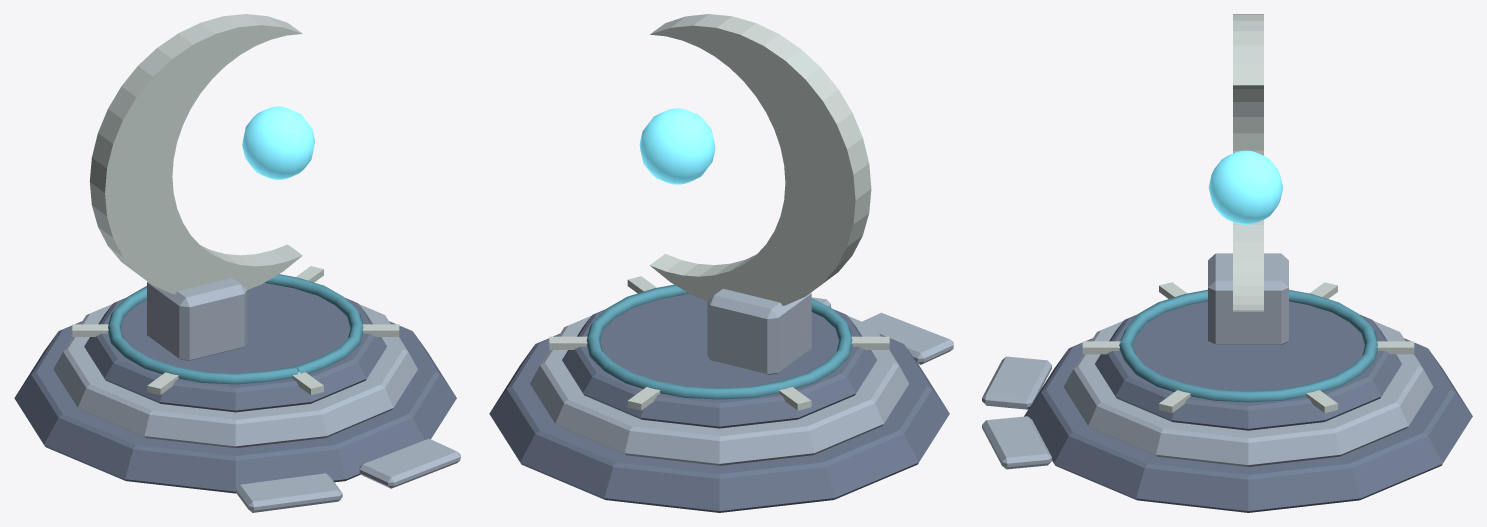
Rendered from moon_altar.glb.
The picture shows the model from 3 angles, left to right: view 1: azimuth 30°, elevation 25°; view 2: azimuth 150°, elevation 25°; view 3: azimuth 270°, elevation 25°; orthographic projection. The views are drawn at different scales.
Visible parts, largest first — view 1: Pigment_707d95, Pigment_adbaca, Pigment_d2dedb, Pigment_62aabe, Pigment_80d4e0; view 2: Pigment_707d95, Pigment_d2dedb, Pigment_adbaca, Pigment_62aabe, Pigment_80d4e0; view 3: Pigment_707d95, Pigment_adbaca, Pigment_d2dedb, Pigment_62aabe, Pigment_80d4e0.
Part boxes in pixels (x1,y1,x2,y2): Pigment_707d95: (14,283,456,493); Pigment_adbaca: (53,278,460,512); Pigment_d2dedb: (72,14,399,394); Pigment_62aabe: (108,274,363,384); Pigment_80d4e0: (242,106,314,179); Pigment_707d95: (489,294,949,512); Pigment_d2dedb: (549,14,889,410); Pigment_adbaca: (530,288,953,465); Pigment_62aabe: (586,284,852,399); Pigment_80d4e0: (639,108,715,184); Pigment_707d95: (1024,301,1472,512); Pigment_adbaca: (982,253,1432,469); Pigment_d2dedb: (1082,14,1414,412); Pigment_62aabe: (1119,289,1377,402); Pigment_80d4e0: (1208,150,1282,224).
Size of the model in its own units: 3.49 by 3.31 by 3.82.
